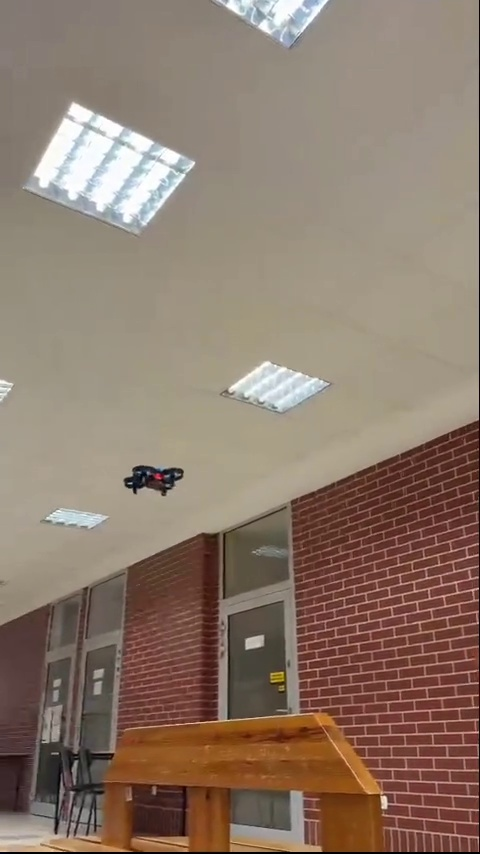drone: (119, 461, 189, 497)
